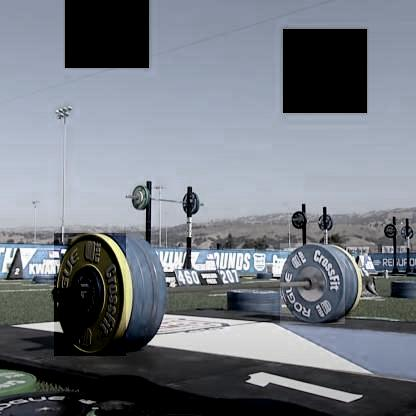barbell: (54, 234, 127, 356), (281, 243, 346, 325)
